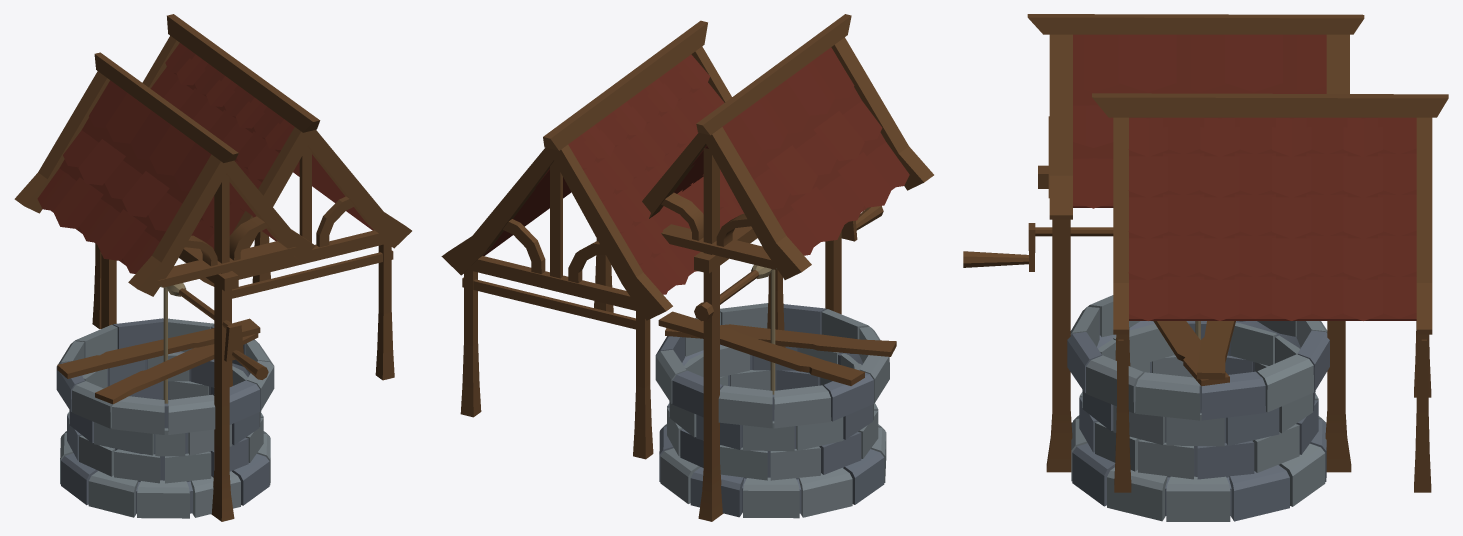
The model's file is london_bld_well.glb.
3 renders of one model, left to right at view 1: azimuth 30°, elevation 25°; view 2: azimuth 150°, elevation 25°; view 3: azimuth 270°, elevation 25°, orthographic. The views are drawn at different scales.
Visible parts, largest first — view 1: Well, Gazebo; view 2: Well, Gazebo; view 3: Well, Gazebo.
Boxes of the visible parts, <box> form: Well: <box>14,52,315,521</box>; Gazebo: <box>92,14,411,386</box>; Well: <box>642,14,933,521</box>; Gazebo: <box>441,20,785,459</box>; Well: <box>963,14,1364,521</box>; Gazebo: <box>1092,93,1448,492</box>.
Bounding box in the file's own units: 5.17 × 6 × 5.83.
